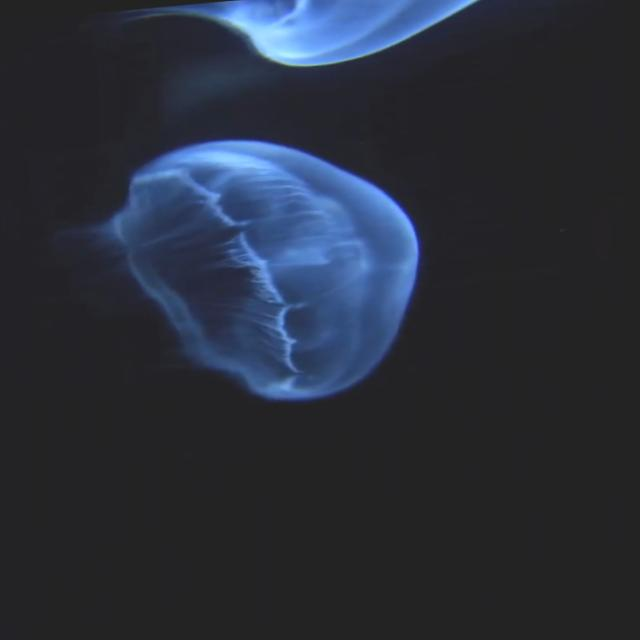Moon-jellyfish: (118, 139, 425, 404), (116, 0, 489, 68)
